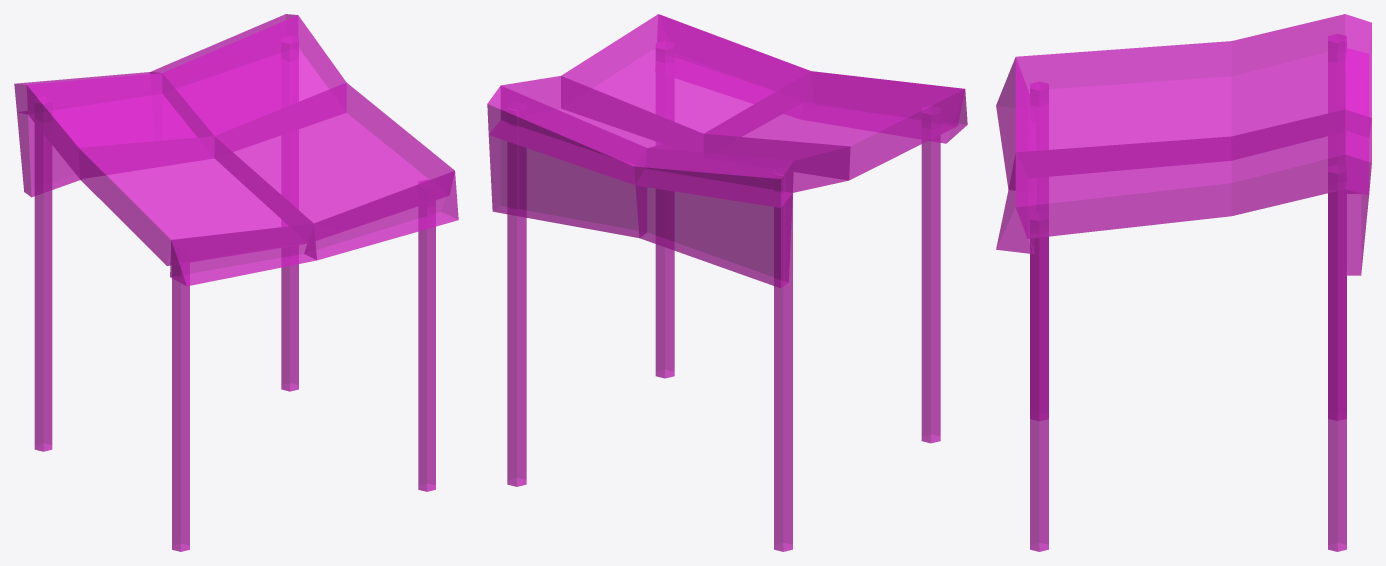
File: SM_Prop_Awning_03_Collision.fbx
3 renders of one model, left to right at view 1: azimuth 30°, elevation 25°; view 2: azimuth 150°, elevation 25°; view 3: azimuth 270°, elevation 25°, orthographic. The views are drawn at different scales.
Visible parts, largest first — view 1: SM_Prop_Awning_03_Collision; view 2: SM_Prop_Awning_03_Collision; view 3: SM_Prop_Awning_03_Collision.
Part boxes in pixels (box(x1,y1,x2,y2)): SM_Prop_Awning_03_Collision: box(14, 14, 458, 551); SM_Prop_Awning_03_Collision: box(487, 14, 967, 551); SM_Prop_Awning_03_Collision: box(996, 14, 1371, 551).
Bounding box in the file's own units: 267 × 330 × 282.
